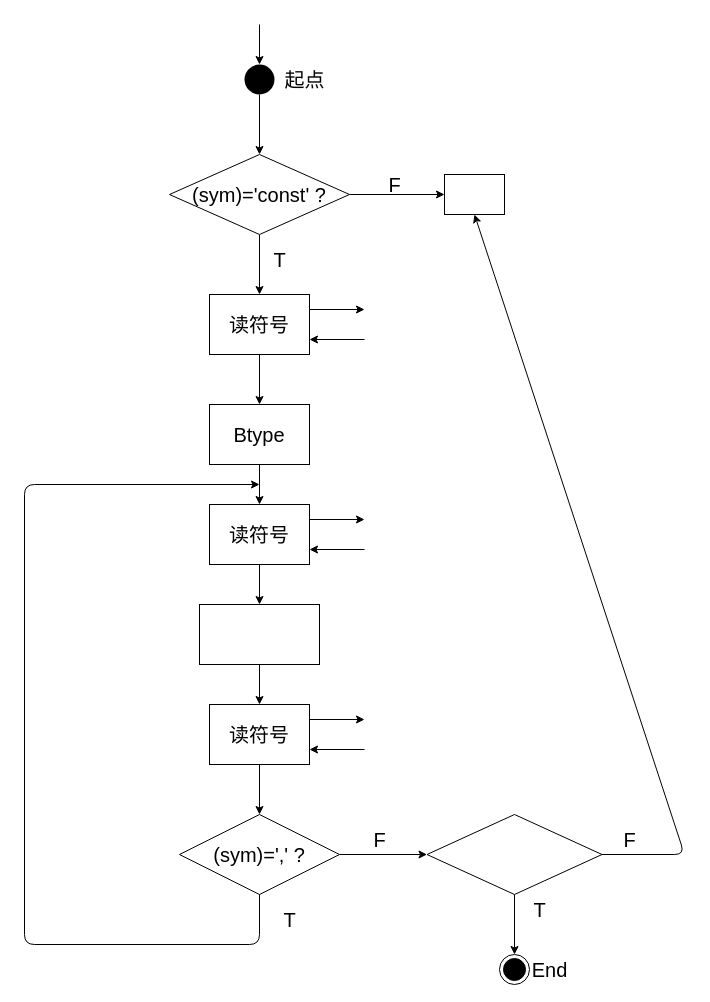
This 710x1002 diagram has some shape labels left out. The centre of each missing label's shape, as x and y in pixels:
"(sym)=';' ?" goes at (514,854).
"ConstDef" goes at (259,634).
"error" goes at (474,194).
